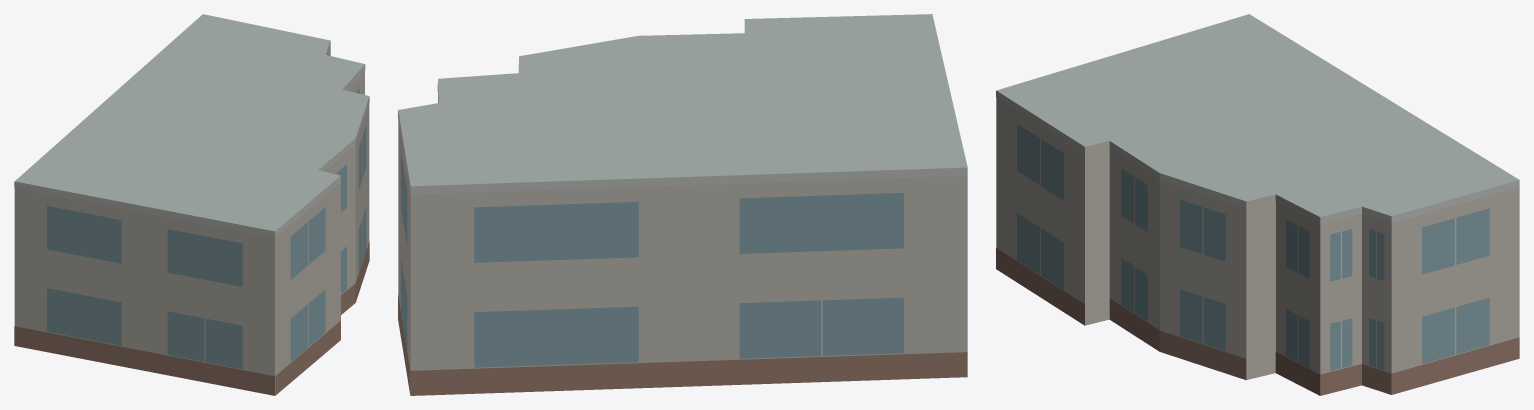
Rendered from survey-upis-32526393.glb.
3 renders of one model, left to right at view 1: azimuth 30°, elevation 25°; view 2: azimuth 150°, elevation 25°; view 3: azimuth 270°, elevation 25°, orthographic. The views are drawn at different scales.
Parts seen in each view (by area): view 1: survey-upis-32526393.tmp; view 2: survey-upis-32526393.tmp; view 3: survey-upis-32526393.tmp.
Part boxes in pixels (<box>): survey-upis-32526393.tmp: <box>14,14,369,395</box>; survey-upis-32526393.tmp: <box>398,14,967,395</box>; survey-upis-32526393.tmp: <box>996,14,1519,395</box>.
Size of the model in its own units: 14.88 by 6.1 by 16.2.
